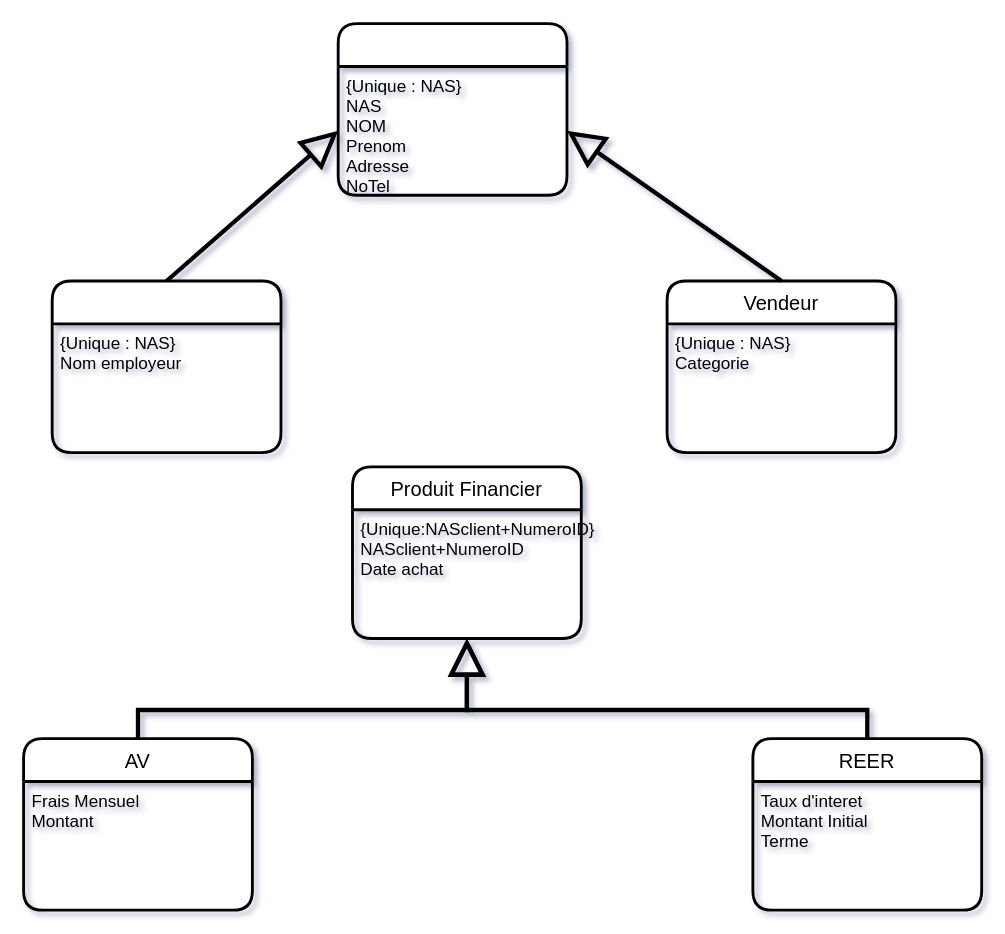
Image size: 1005x934. Some labels were removed from this diagram. Here are the shapes that lost their labels. From the top down, the box of each, then its label:
(336, 21, 568, 196): Personne
(50, 279, 282, 453): Client
